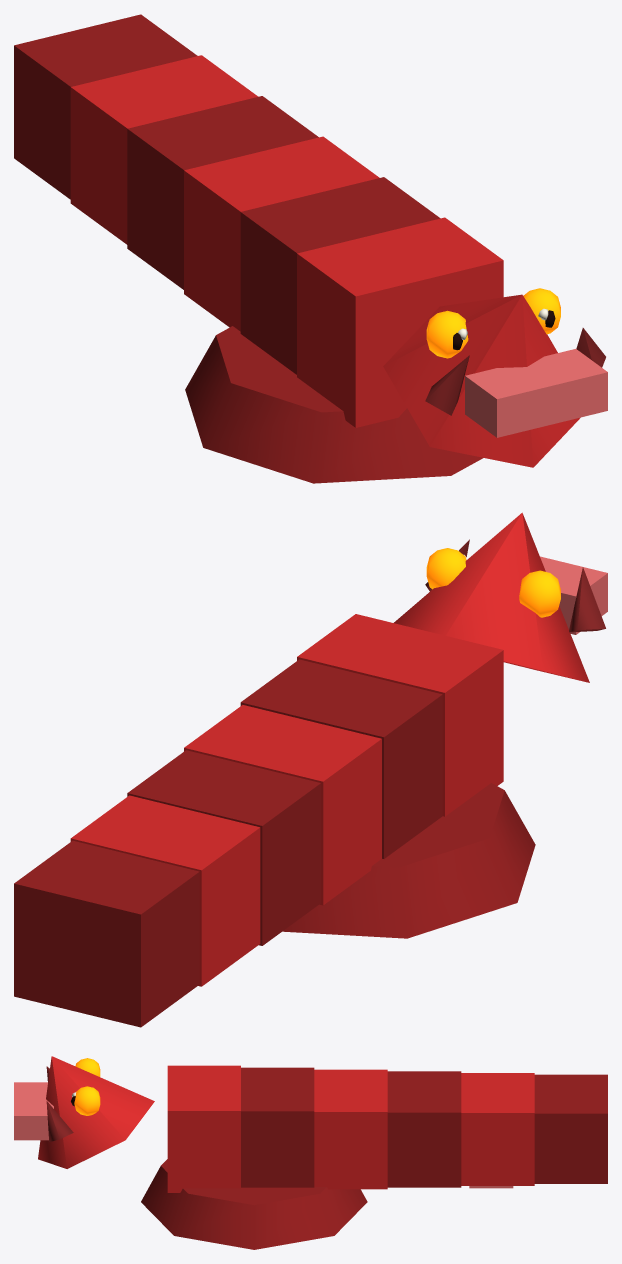
The model's file is SandwormB.glb.
3 views of the same model, one above another, from view 1: azimuth 30°, elevation 25°; view 2: azimuth 150°, elevation 25°; view 3: azimuth 270°, elevation 25° (orthographic). The views are drawn at different scales.
Parts seen in each view (by area): view 1: SandwormBody; view 2: SandwormBody; view 3: SandwormBody.
Boxes of the visible parts, box(x1,y1,x2,y2) form: SandwormBody: box(14, 14, 607, 483); SandwormBody: box(14, 512, 607, 1027); SandwormBody: box(14, 1056, 607, 1249).
Bounding box in the file's own units: 0.68 × 0.4829 × 1.78.
